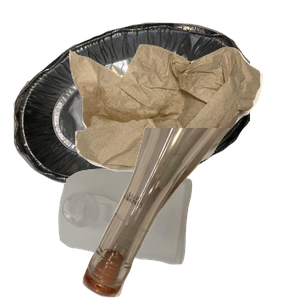glass: (80, 128, 300, 300)
metal: (11, 20, 251, 200)
plastic: (56, 166, 241, 300)
trash: (67, 42, 300, 206)
